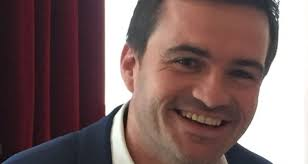middle_eastern_male: (132, 4, 283, 155)
